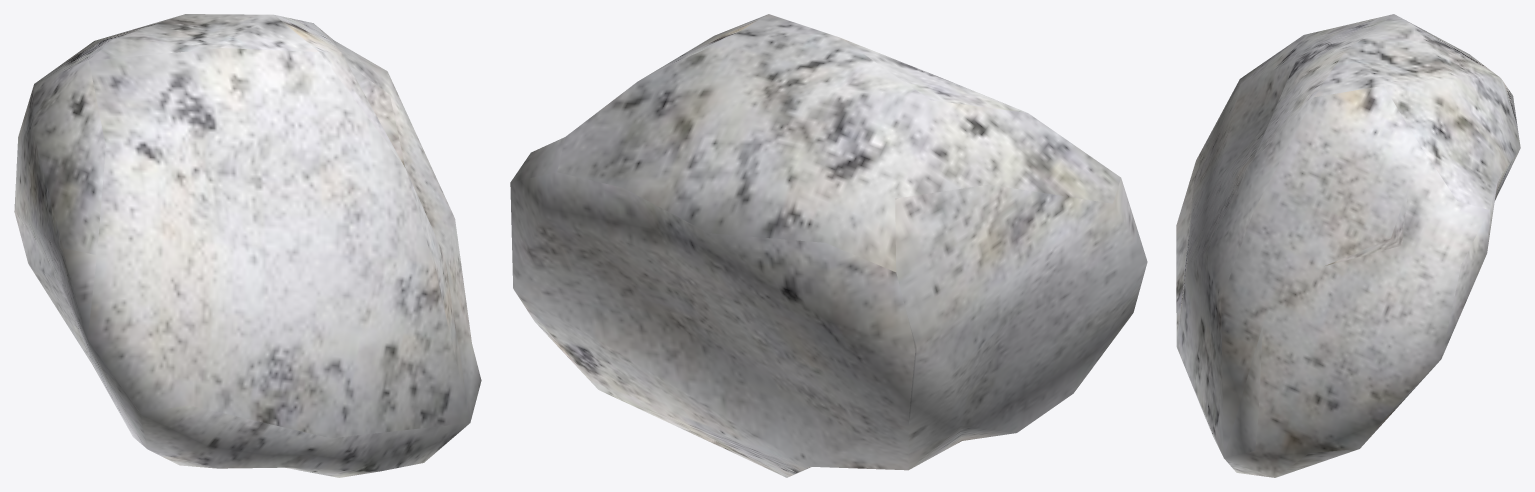
File: rock.glb
3 views of the same model, side by side, from view 1: azimuth 30°, elevation 25°; view 2: azimuth 150°, elevation 25°; view 3: azimuth 270°, elevation 25° (orthographic). The views are drawn at different scales.
Parts seen in each view (by area): view 1: rock032_lod4; view 2: rock032_lod4; view 3: rock032_lod4.
Part boxes in pixels (left/top/right/bottom): rock032_lod4: left=14, top=14, right=481, bottom=477; rock032_lod4: left=510, top=14, right=1147, bottom=477; rock032_lod4: left=1176, top=14, right=1520, bottom=477.
Size of the model in its own units: 1 by 0.8843 by 0.7498.
Materials: 1 (1 with a texture image).
